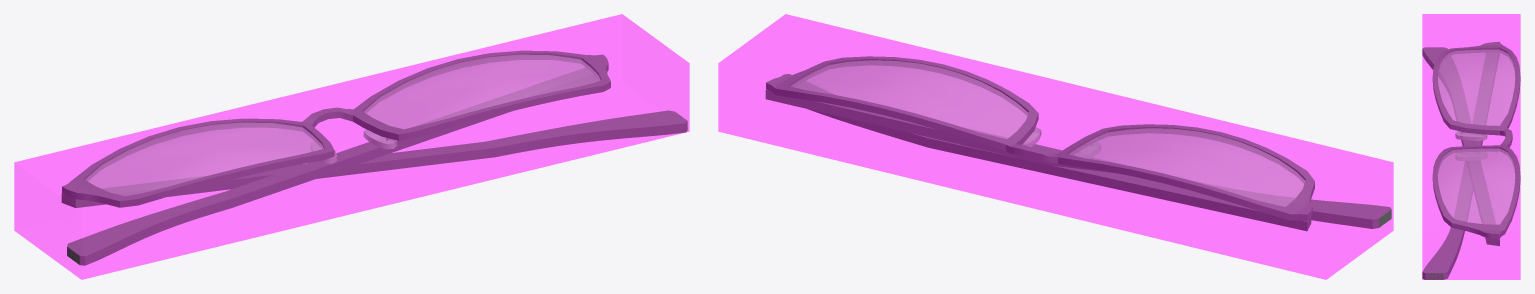
The model's file is glasses.fbx.
The picture shows the model from 3 angles, left to right: view 1: azimuth 30°, elevation 25°; view 2: azimuth 150°, elevation 25°; view 3: azimuth 270°, elevation 25°; orthographic projection. The views are drawn at different scales.
Visible parts, largest first — view 1: boundingbox, glasses; view 2: boundingbox, glasses; view 3: boundingbox, glasses.
Boxes of the visible parts, x1,y1,x2,y2 form: boundingbox: [14, 14, 689, 279]; glasses: [61, 50, 687, 265]; boundingbox: [718, 14, 1393, 279]; glasses: [765, 56, 1391, 231]; boundingbox: [1422, 14, 1520, 279]; glasses: [1422, 41, 1520, 279].
Size of the model in its own units: 15.24 by 1.64 by 2.92.
